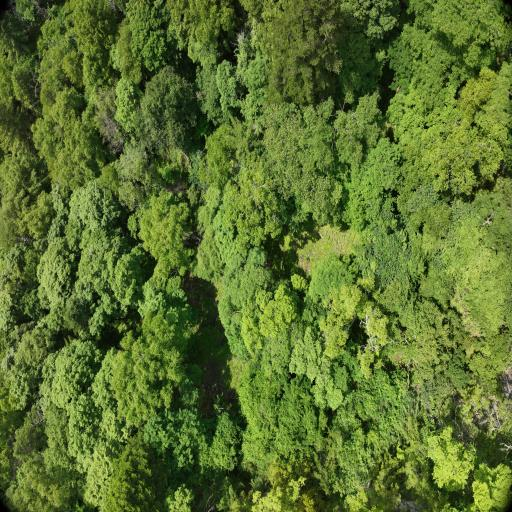dead-tree: (94, 110, 131, 158), (28, 406, 46, 429), (16, 234, 36, 246)
